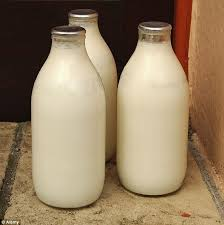milk: (29, 25, 108, 209), (120, 20, 191, 198)
